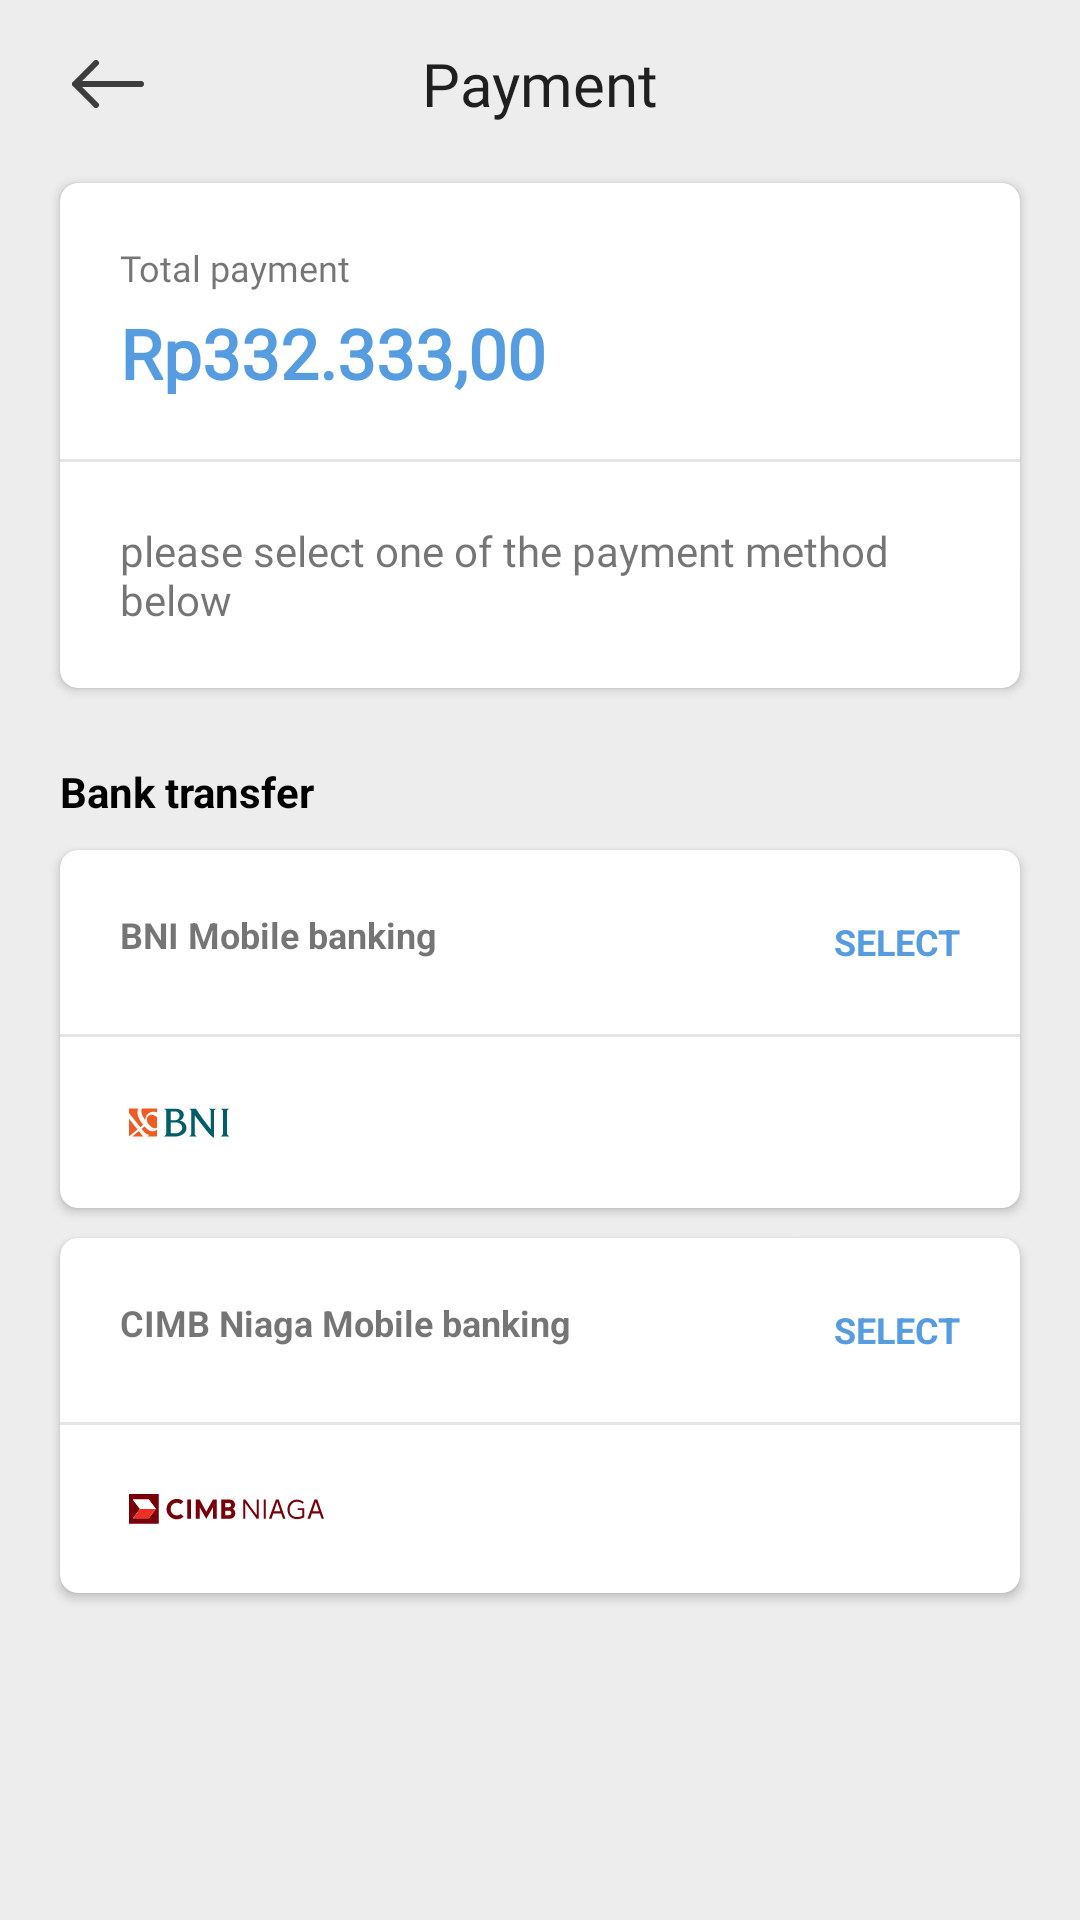

Icons on this 1080px×1920px Android screen, each with its box as BBox(x1, y1, x2, y2):
Back Button: BBox(72, 60, 144, 108)
